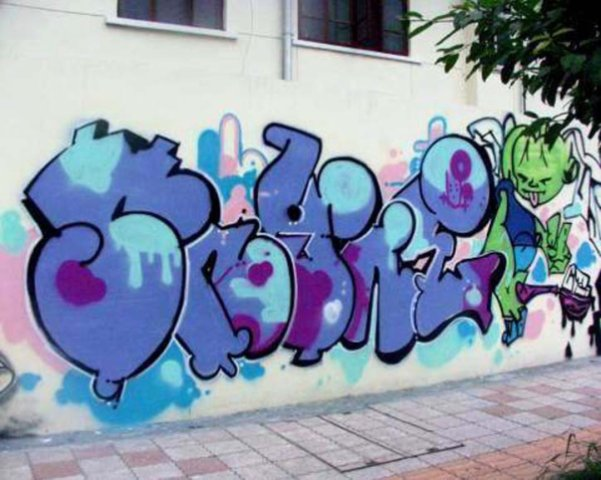graffity: (13, 106, 509, 409), (470, 97, 601, 347)
